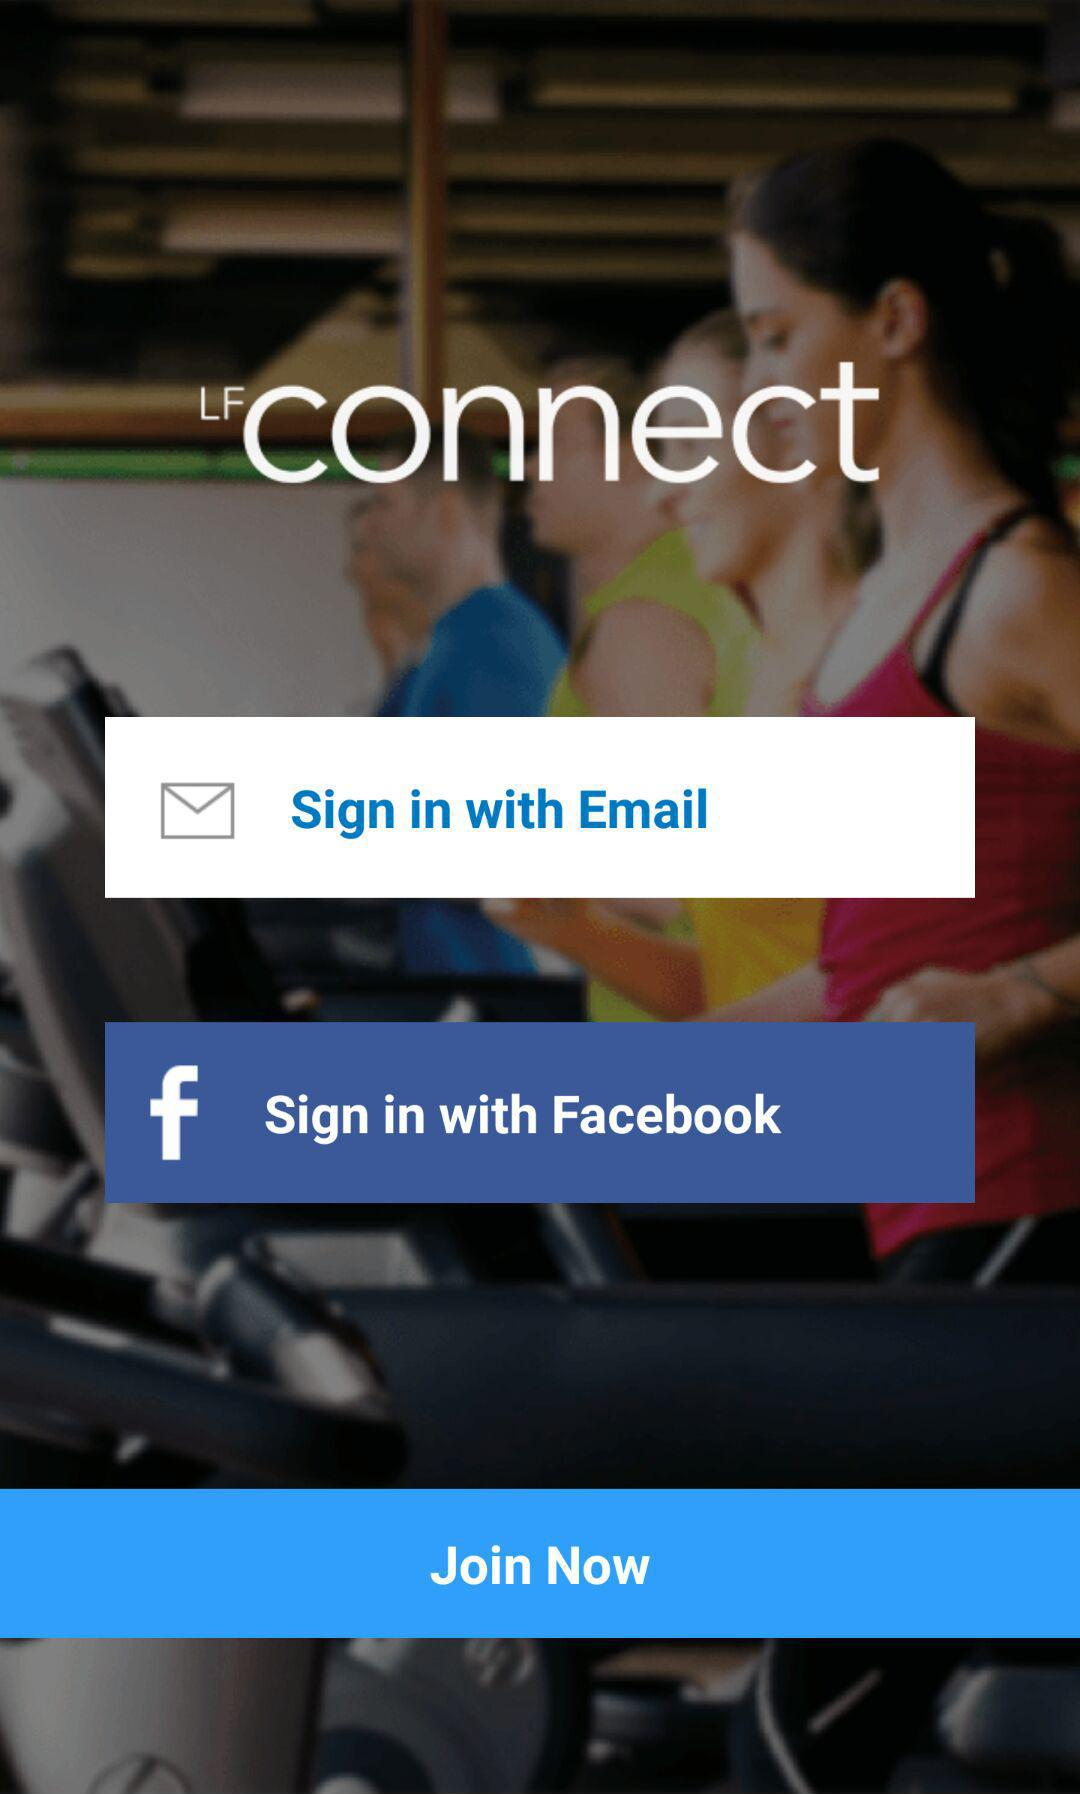BackgroundImage: (1, 1, 1080, 1794)
Image: (199, 360, 883, 490)
TextButton: (105, 1021, 976, 1205), (1, 1490, 1080, 1638), (105, 718, 976, 900)
